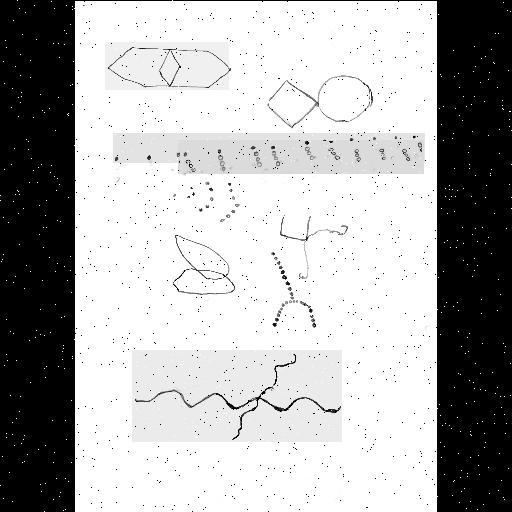shape-1: (268, 72, 372, 132)
shape-2: (113, 133, 425, 163)
shape-3: (178, 140, 424, 174)
shape-4: (172, 176, 240, 226)
shape-5: (278, 210, 352, 280)
shape-6: (268, 246, 320, 332)
shape-7: (132, 350, 342, 442)
shape-8: (174, 230, 236, 298)
shape-9: (105, 42, 229, 90)
